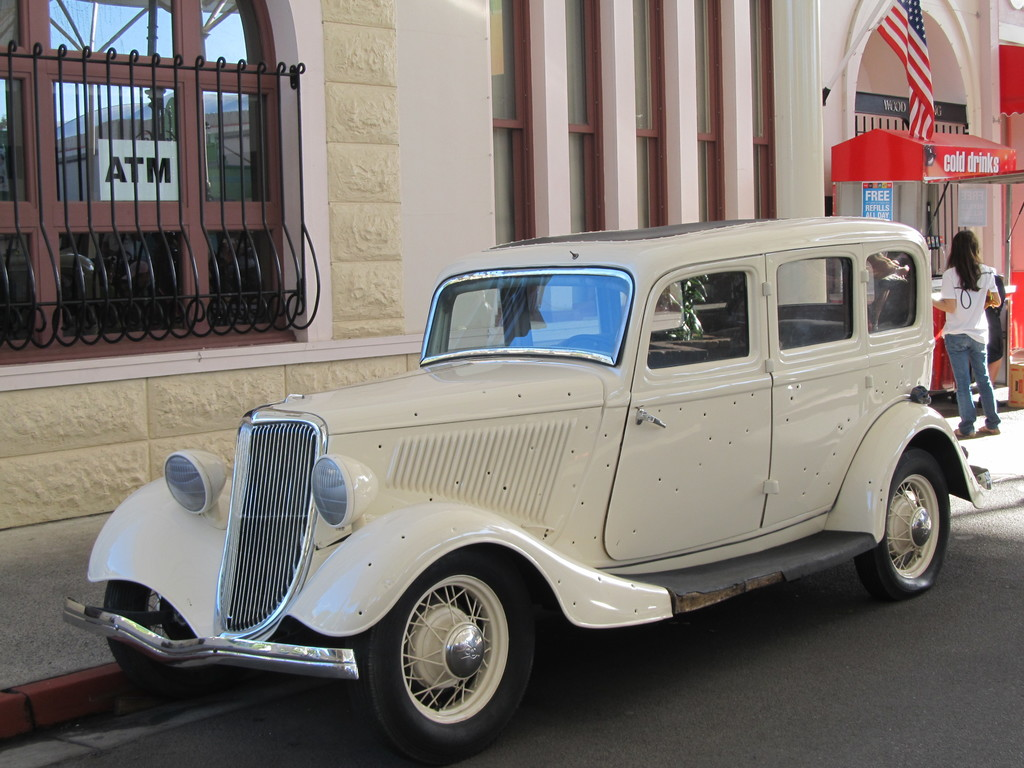Person: (931, 228, 1000, 437)
